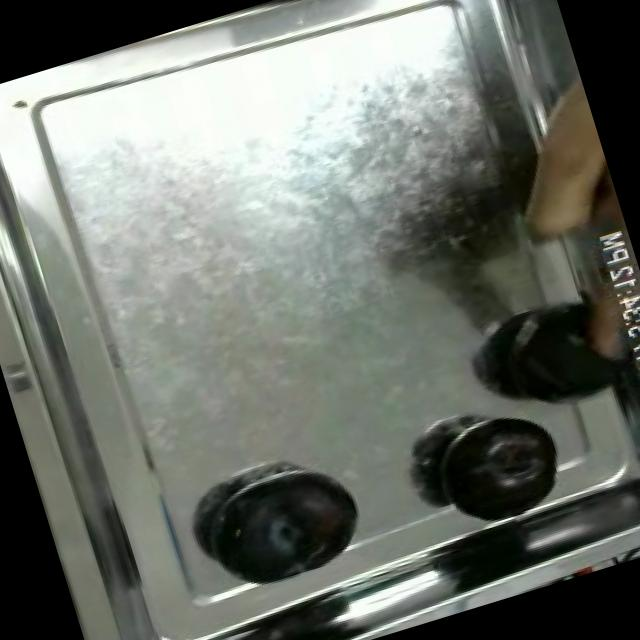Fruit: (196, 445, 380, 599), (408, 389, 580, 540)
